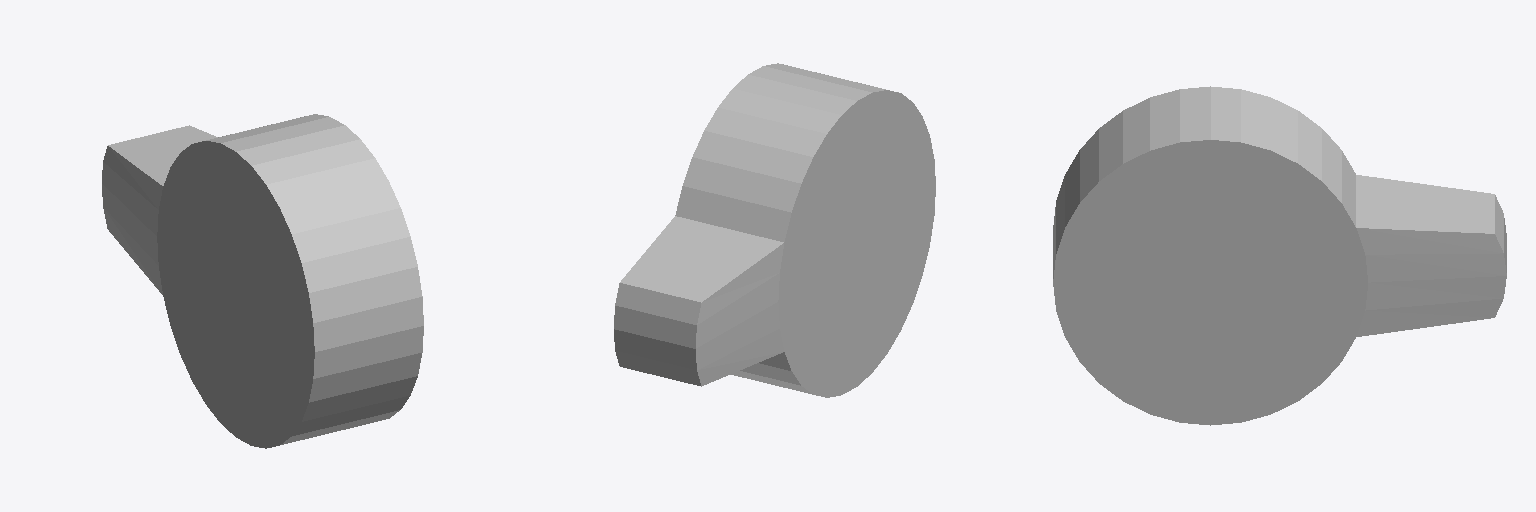
File: Switch.obj
3 renders of one model, left to right at view 1: azimuth 30°, elevation 25°; view 2: azimuth 150°, elevation 25°; view 3: azimuth 270°, elevation 25°, orthographic.
Parts seen in each view (by area): view 1: Switch; view 2: Switch; view 3: Switch.
Part boxes in pixels (bbox=[...]): Switch: bbox=[102, 114, 423, 448]; Switch: bbox=[614, 63, 935, 397]; Switch: bbox=[1053, 86, 1506, 425].
Bounding box in the file's own units: 0.0266 × 0.0665 × 0.0958.